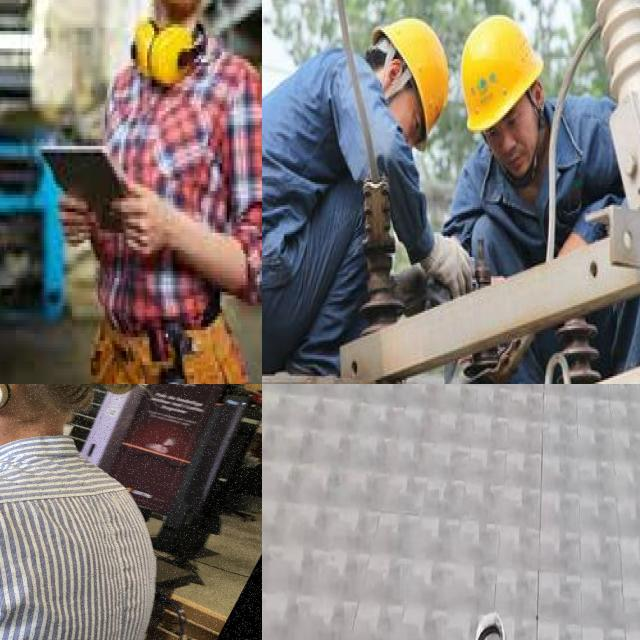Ear-protection: (0, 384, 144, 497), (124, 7, 192, 86)
No_Ear-Protection: (526, 79, 545, 111)
face_nomask: (489, 117, 538, 177)
hand_glove: (422, 233, 473, 296)
head_helmet: (462, 19, 543, 131), (373, 18, 449, 135)
person: (63, 0, 262, 384)
